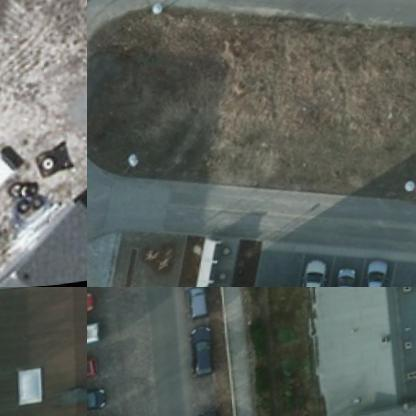car: (0, 141, 30, 222), (186, 324, 216, 380), (182, 287, 212, 322), (291, 261, 330, 286), (358, 261, 393, 286), (331, 264, 358, 286), (87, 380, 104, 409), (194, 404, 222, 415), (87, 355, 97, 382)
